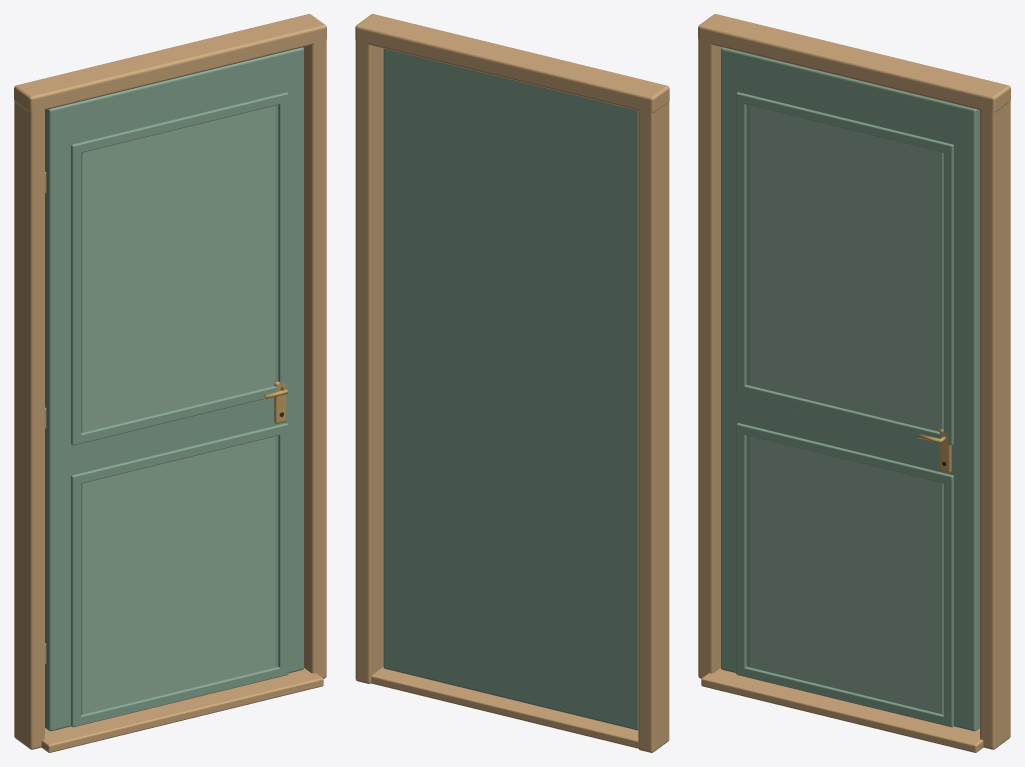
The model's file is Front_Door.glb.
The picture shows the model from 3 angles, left to right: view 1: azimuth 30°, elevation 25°; view 2: azimuth 150°, elevation 25°; view 3: azimuth 330°, elevation 25°; orthographic projection.
Parts seen in each view (by area): view 1: Door_Entry_Left_Mesh, Front_Door_Mesh; view 2: Door_Entry_Left_Mesh, Front_Door_Mesh; view 3: Door_Entry_Left_Mesh, Front_Door_Mesh.
Part boxes in pixels (left/top/right/bottom): Door_Entry_Left_Mesh: left=45, top=47, right=303, bottom=731; Front_Door_Mesh: left=14, top=14, right=326, bottom=752; Door_Entry_Left_Mesh: left=383, top=48, right=638, bottom=730; Front_Door_Mesh: left=355, top=14, right=669, bottom=752; Door_Entry_Left_Mesh: left=721, top=47, right=979, bottom=731; Front_Door_Mesh: left=698, top=14, right=1010, bottom=752.
Bounding box in the file's own units: 1.18 × 2.47 × 0.17.
